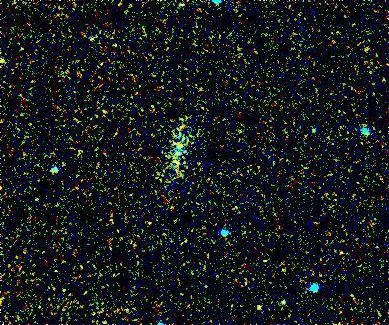star: (248, 296, 278, 325)
